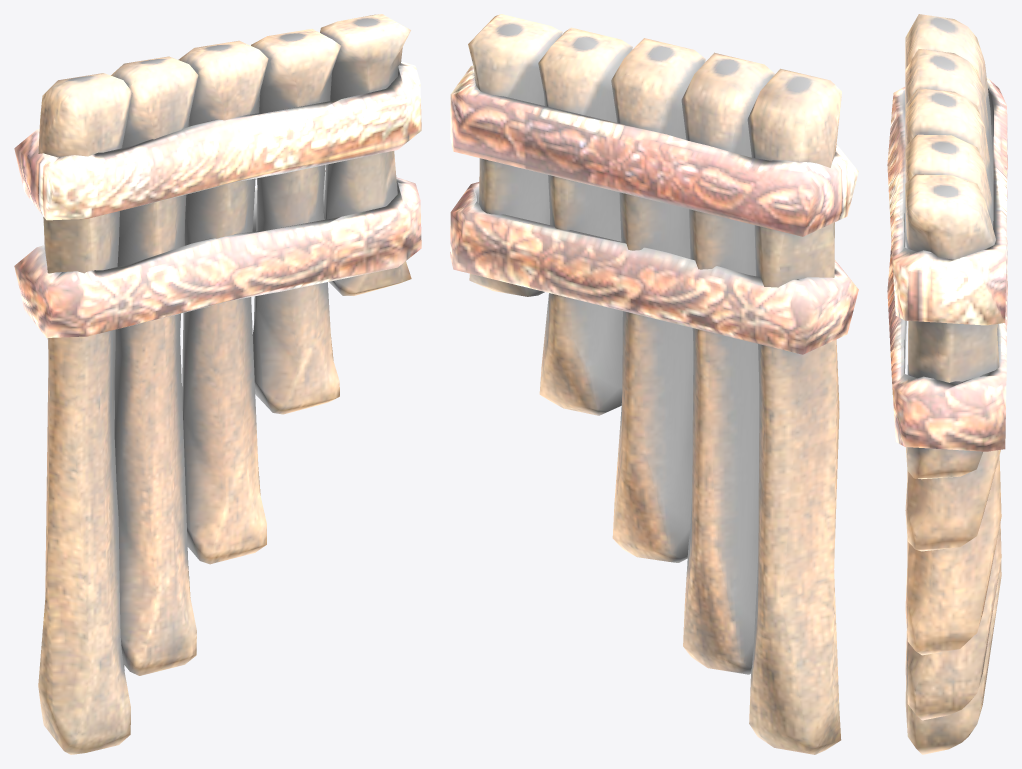
File: panpipes.glb
The picture shows the model from 3 angles, left to right: view 1: azimuth 30°, elevation 25°; view 2: azimuth 150°, elevation 25°; view 3: azimuth 270°, elevation 25°; orthographic projection. The views are drawn at different scales.
Parts seen in each view (by area): view 1: Cylinder; view 2: Cylinder; view 3: Cylinder.
Boxes of the visible parts, left/top/right/bottom form: Cylinder: left=14, top=14, right=421, bottom=754; Cylinder: left=450, top=14, right=858, bottom=754; Cylinder: left=887, top=14, right=1007, bottom=754.
Bounding box in the file's own units: 0.5154 × 0.8793 × 0.1332.
